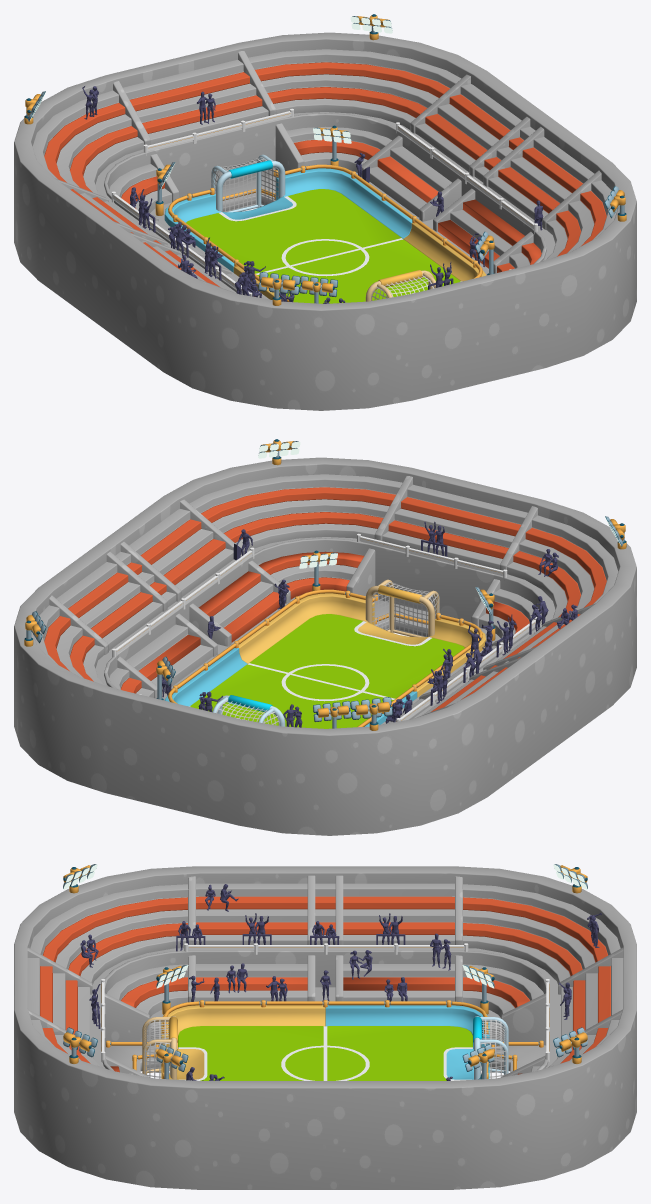
The model's file is stadium.glb.
3 renders of one model, top to bottom at view 1: azimuth 30°, elevation 25°; view 2: azimuth 150°, elevation 25°; view 3: azimuth 270°, elevation 25°, orthographic.
Parts seen in each view (by area): view 1: light7.001; view 2: light7.001; view 3: light7.001.
Boxes of the visible parts, bbox=[...] form: light7.001: bbox=[14, 14, 636, 410]; light7.001: bbox=[14, 439, 636, 835]; light7.001: bbox=[14, 864, 636, 1189].
Size of the model in its own units: 47.72 by 13.88 by 56.58.
Materials: 17 (4 with a texture image).
